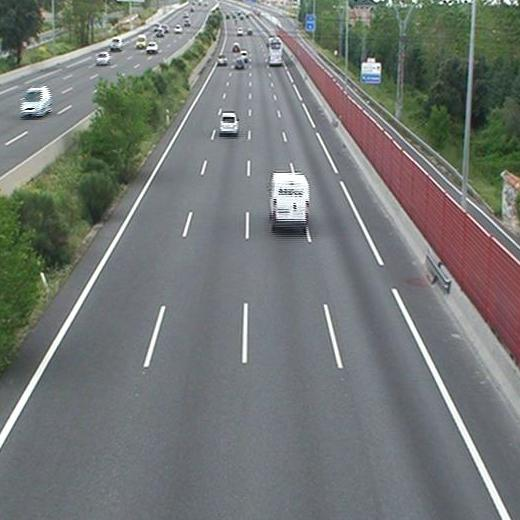bus: (268, 37, 282, 66)
car: (218, 112, 238, 135), (234, 58, 245, 70), (239, 49, 248, 62), (217, 55, 226, 66), (232, 42, 239, 53)
van: (269, 174, 308, 229)
